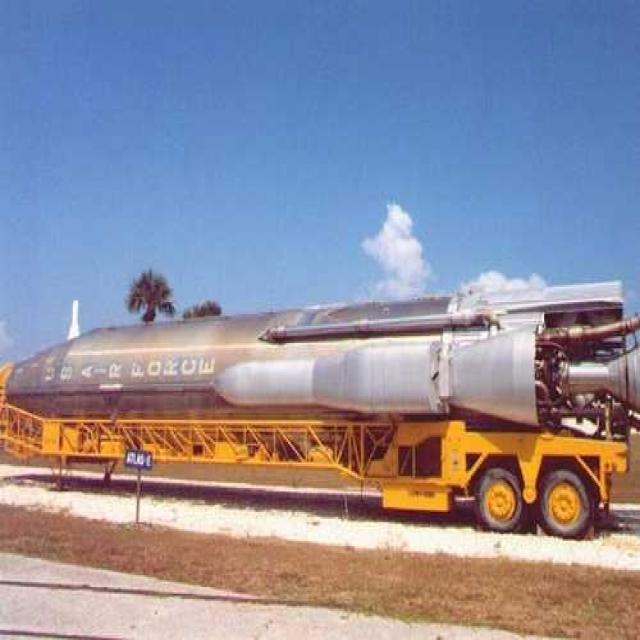missile: (1, 285, 639, 448)
